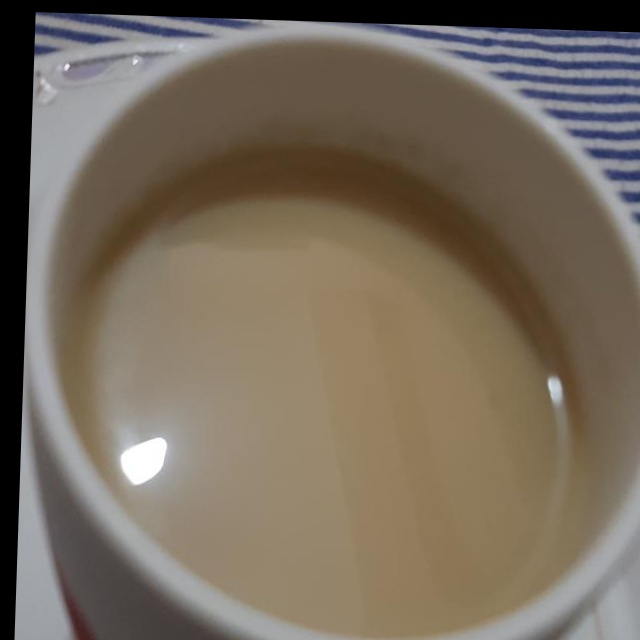Iced Coffee: (15, 18, 640, 640)
